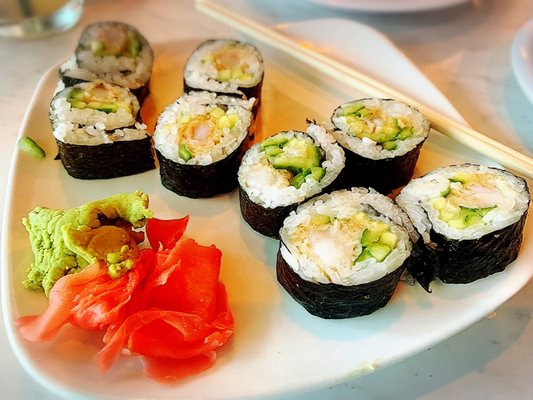soup: (276, 188, 415, 319), (395, 163, 531, 289)
